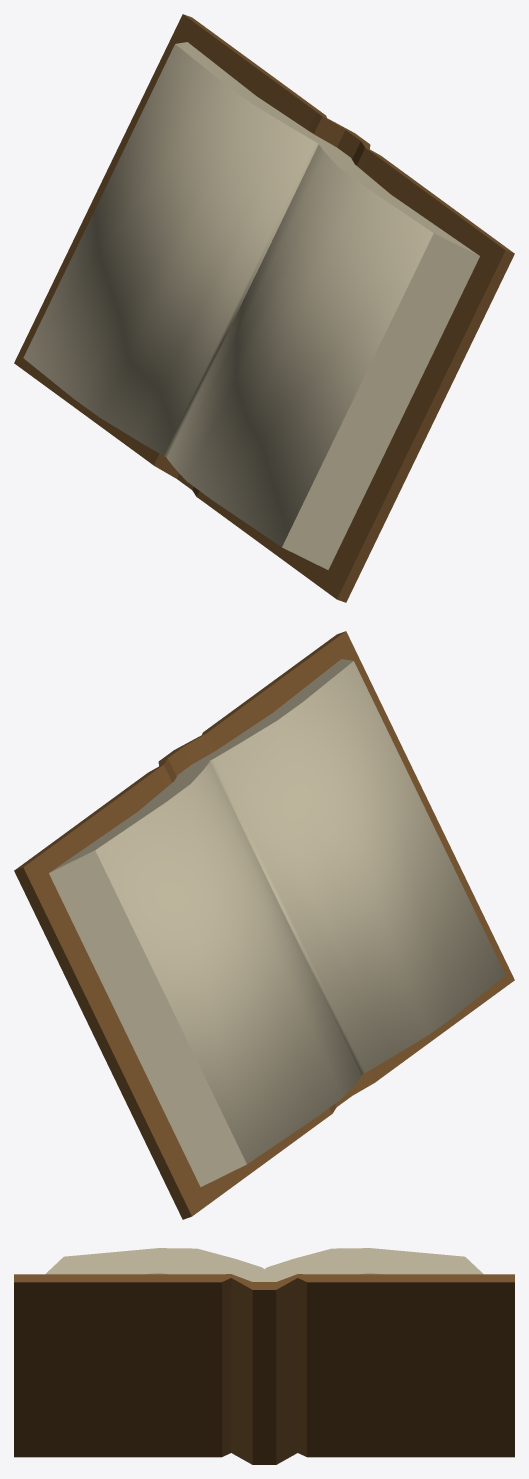
File: LowPolyDungeonBook.glb
The picture shows the model from 3 angles, top to bottom: view 1: azimuth 30°, elevation 25°; view 2: azimuth 150°, elevation 25°; view 3: azimuth 270°, elevation 25°; orthographic projection. The views are drawn at different scales.
Parts seen in each view (by area): view 1: Book_Open.001; view 2: Book_Open.001; view 3: Book_Open.001.
Boxes of the visible parts, <box> form: Book_Open.001: <box>14,14,514,602</box>; Book_Open.001: <box>14,631,514,1219</box>; Book_Open.001: <box>14,1248,514,1464</box>.
Bounding box in the file's own units: 0.2487 × 0.3545 × 0.6315.
Materials: 2 (2 with a texture image).
